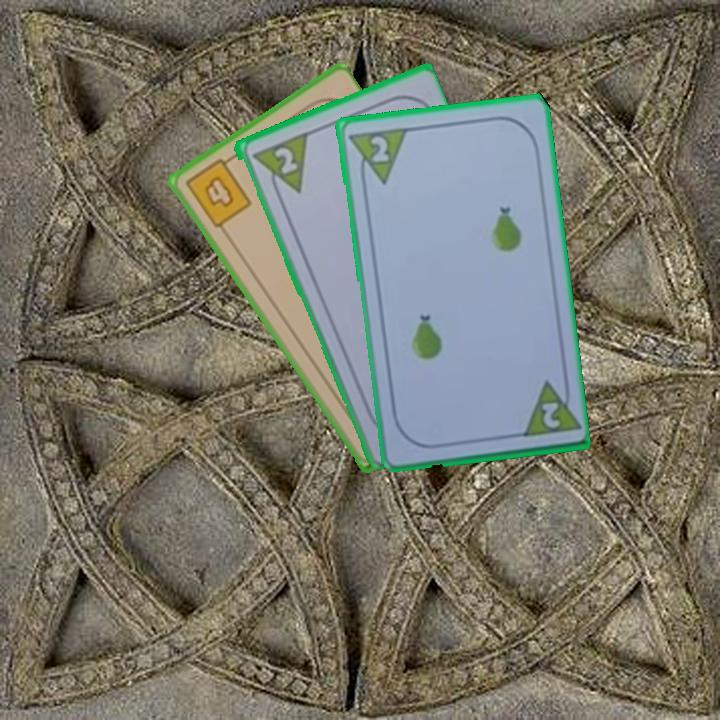2p: (247, 129, 310, 203), (366, 132, 392, 165), (538, 398, 563, 432)
4b: (181, 151, 255, 231)
